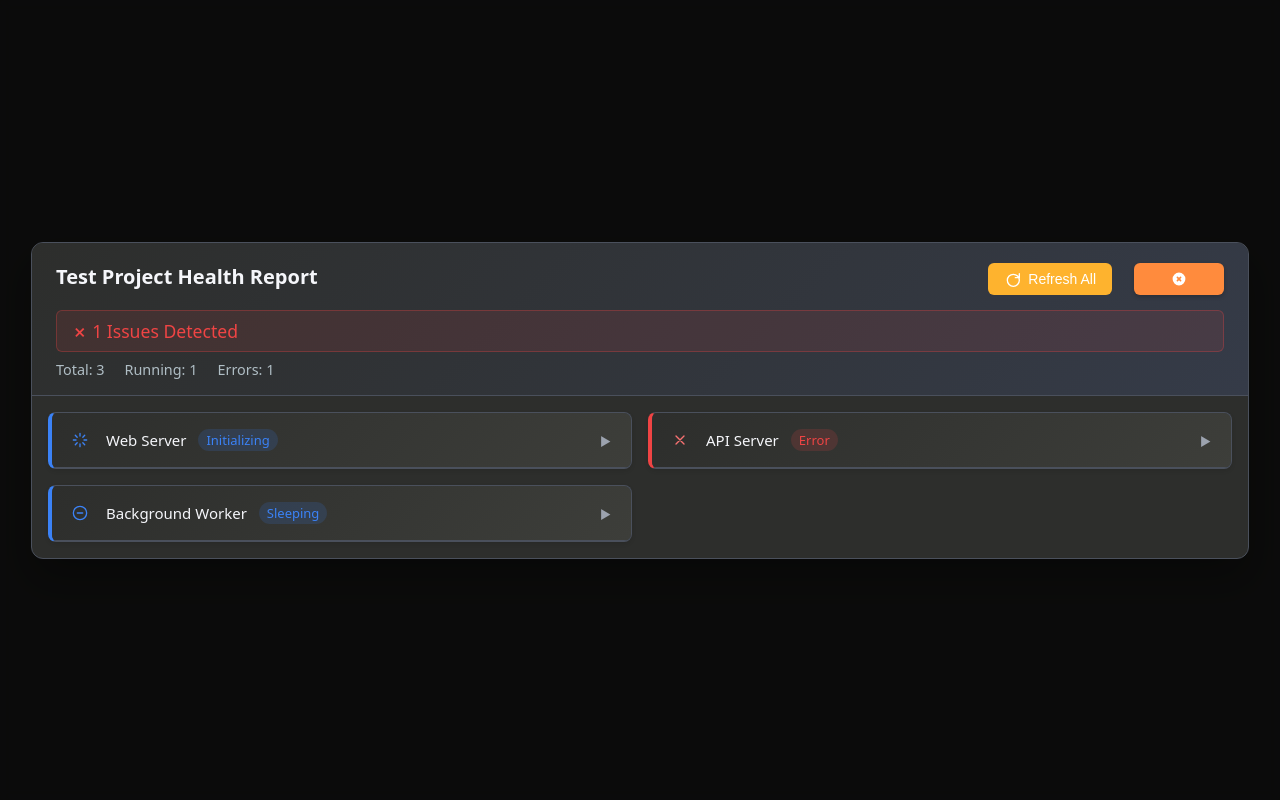
Test: HealthReportScreen › Terminal Actions › should disable refresh button in no run mode
Check: the text "Web Server" is shown, box [106, 430, 186, 450]
// Expand terminal section
Click the element with test id "terminal-section-Web Server".
click(342, 440)  # box [52, 412, 631, 468]
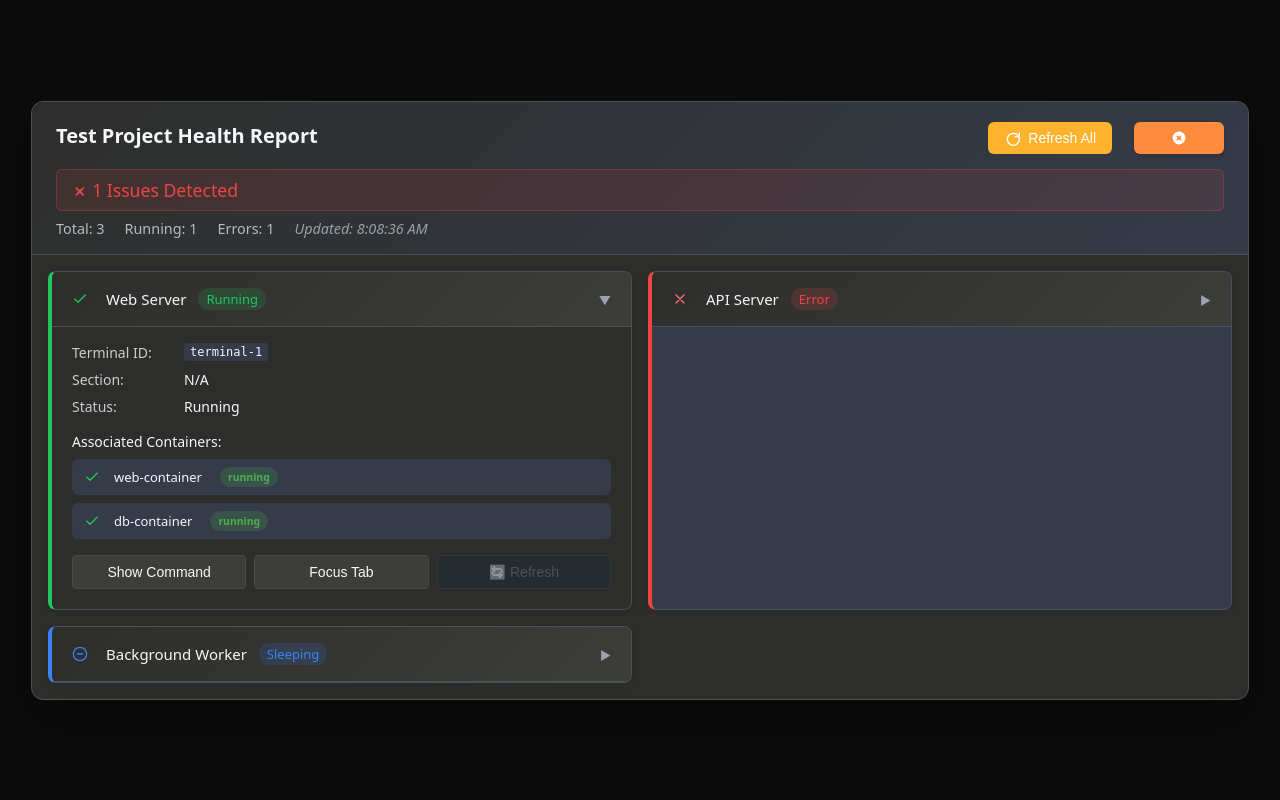
Check: the button with test id "refresh-button" is disabled, box [437, 554, 611, 588]
